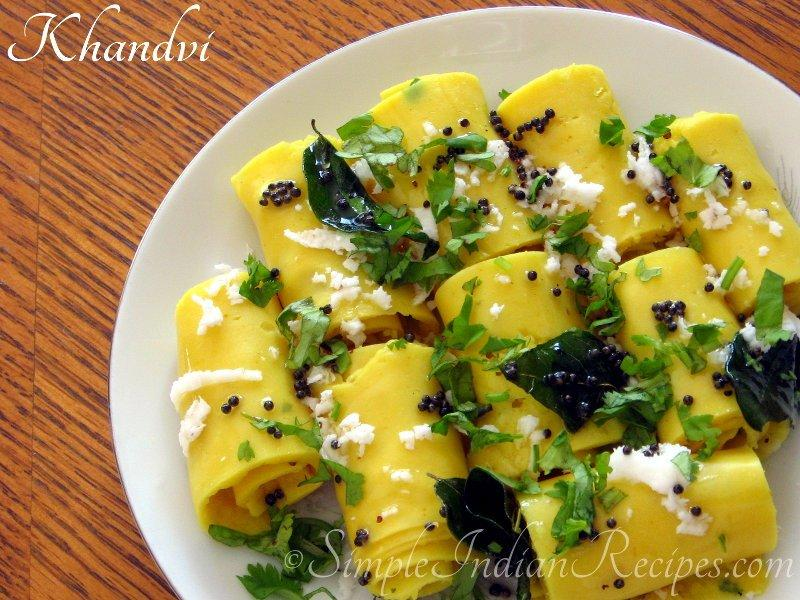khandvi: (185, 75, 798, 530)
